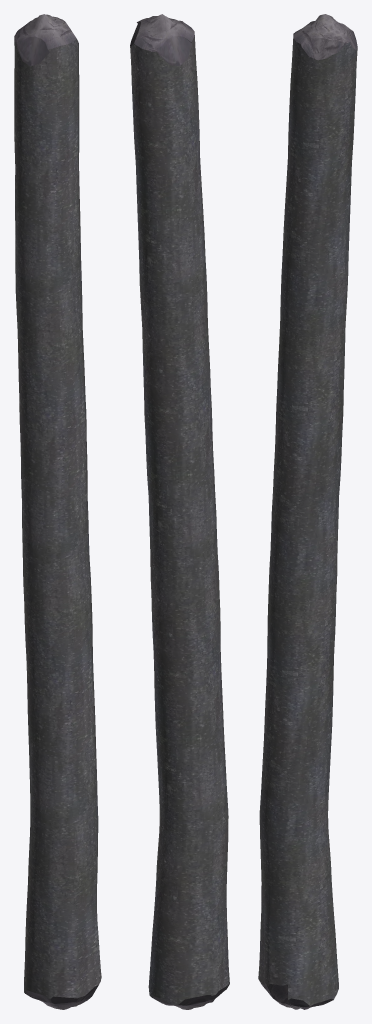
3 views of the same model, side by side, from view 1: azimuth 90°, elevation 25°; view 2: azimuth 150°, elevation 25°; view 3: azimuth 330°, elevation 25° (orthographic).
Visible parts, largest first — view 1: SM_FH_Ash_Tree_02_tree_quarters_bottom_LOD0; view 2: SM_FH_Ash_Tree_02_tree_quarters_bottom_LOD0; view 3: SM_FH_Ash_Tree_02_tree_quarters_bottom_LOD0.
Part boxes in pixels (x1,y1,x2,y2): SM_FH_Ash_Tree_02_tree_quarters_bottom_LOD0: [14, 14, 101, 1009]; SM_FH_Ash_Tree_02_tree_quarters_bottom_LOD0: [130, 14, 229, 1009]; SM_FH_Ash_Tree_02_tree_quarters_bottom_LOD0: [258, 14, 357, 1009].
Size of the model in its own units: 0.5402 by 6.34 by 0.5092.
Materials: 1 (1 with a texture image).
